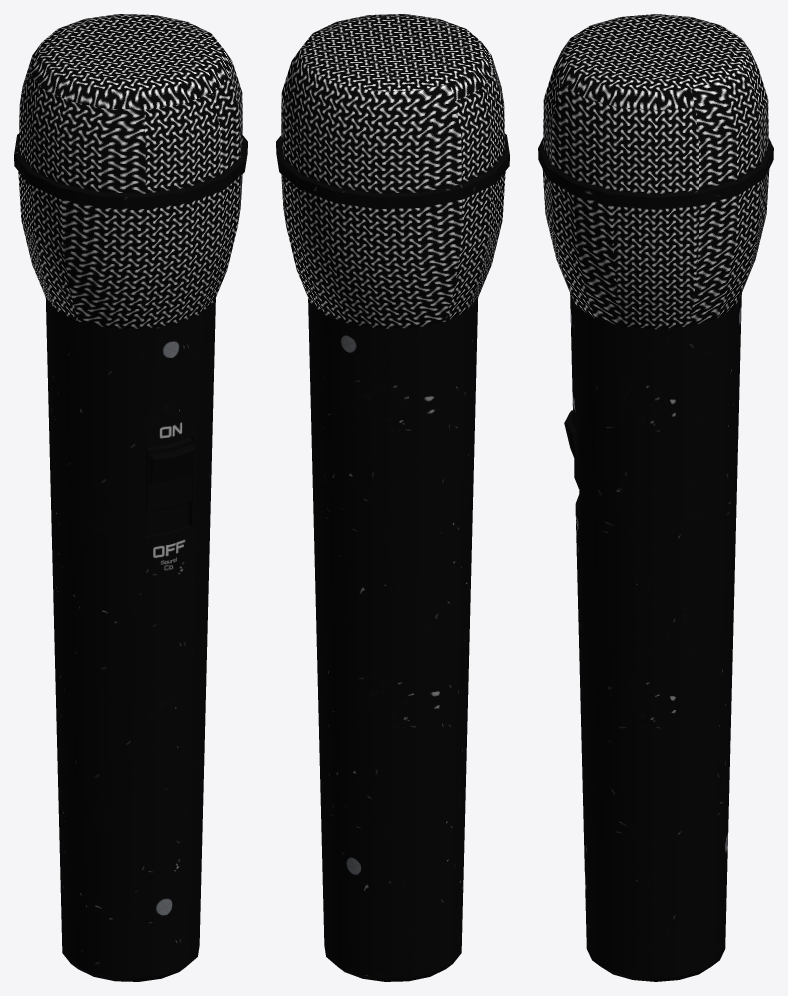
Rendered from Microphone FBX.glb.
3 views of the same model, side by side, from view 1: azimuth 30°, elevation 25°; view 2: azimuth 150°, elevation 25°; view 3: azimuth 270°, elevation 25° (orthographic).
Parts seen in each view (by area): view 1: Microphone FBX, ON OFF Switch; view 2: Microphone FBX; view 3: Microphone FBX, ON OFF Switch.
Part boxes in pixels (<box>): Microphone FBX: <box>14,14,247,981</box>; ON OFF Switch: <box>146,437,194,512</box>; Microphone FBX: <box>276,14,509,981</box>; Microphone FBX: <box>538,14,773,981</box>; ON OFF Switch: <box>564,410,579,488</box>.
Size of the model in its own units: 0.0534 by 0.227 by 0.0534.
Materials: 1 (1 with a texture image).
